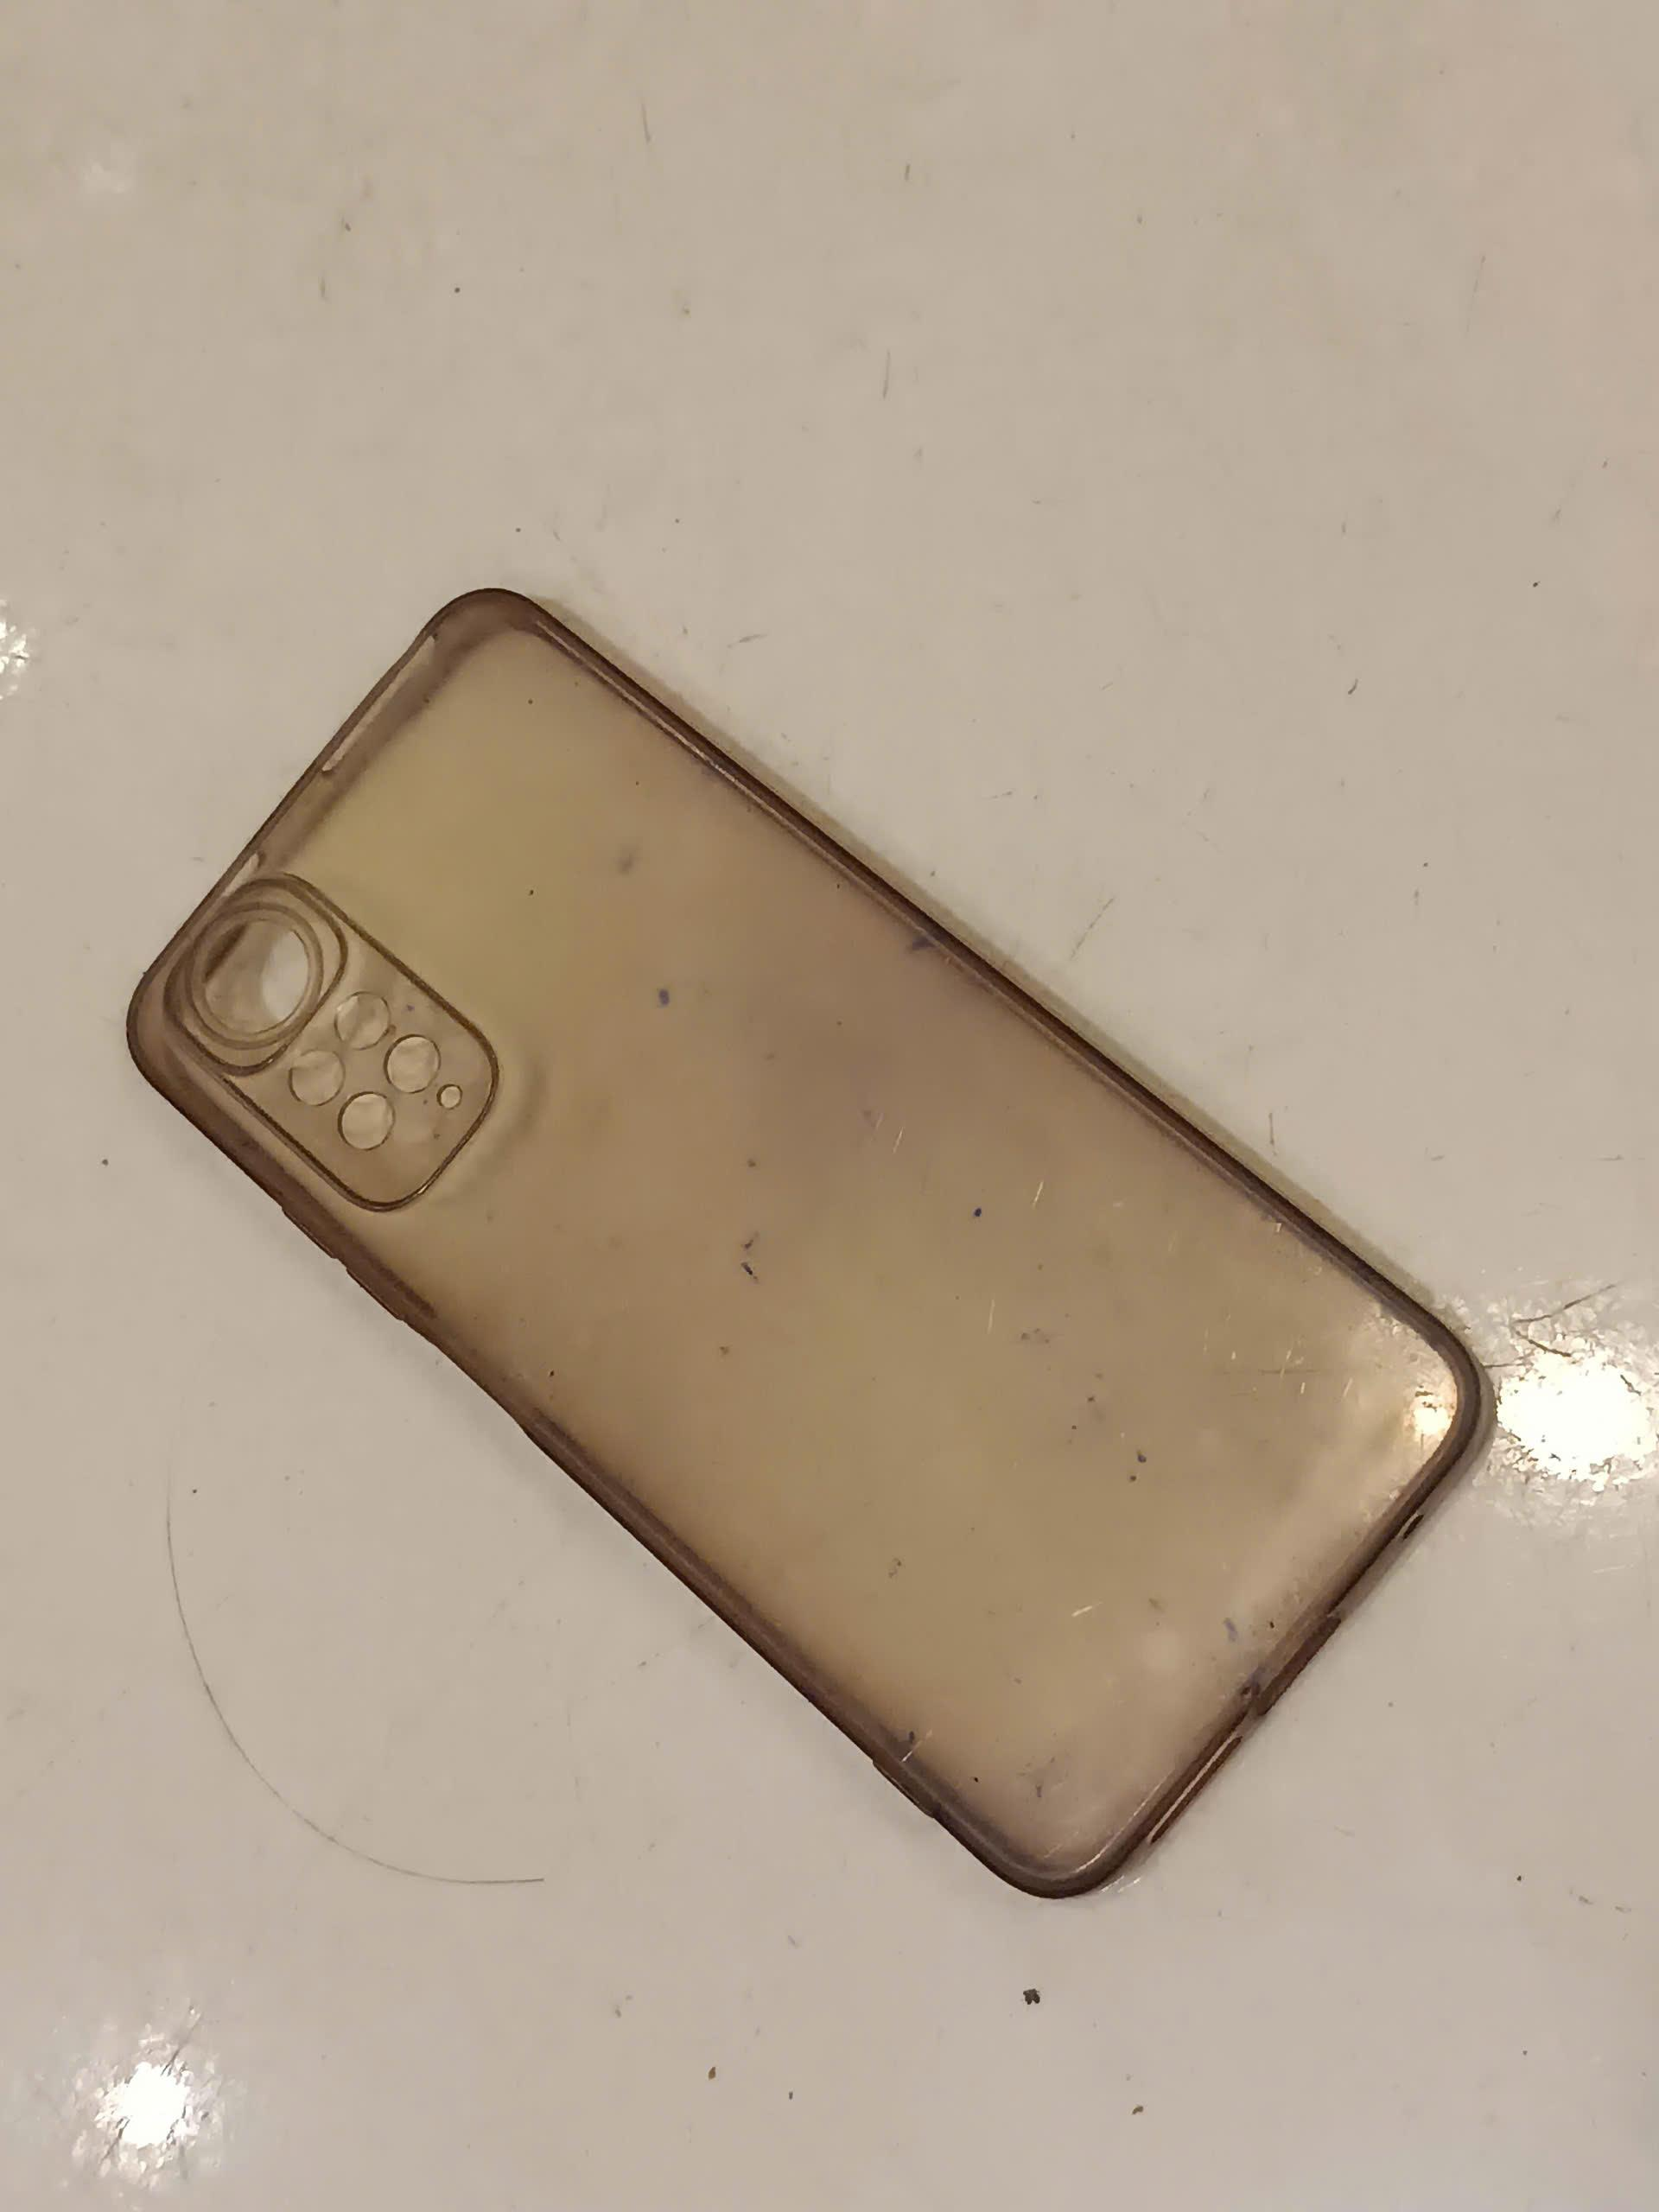Vo co: (120, 580, 1490, 1902)
